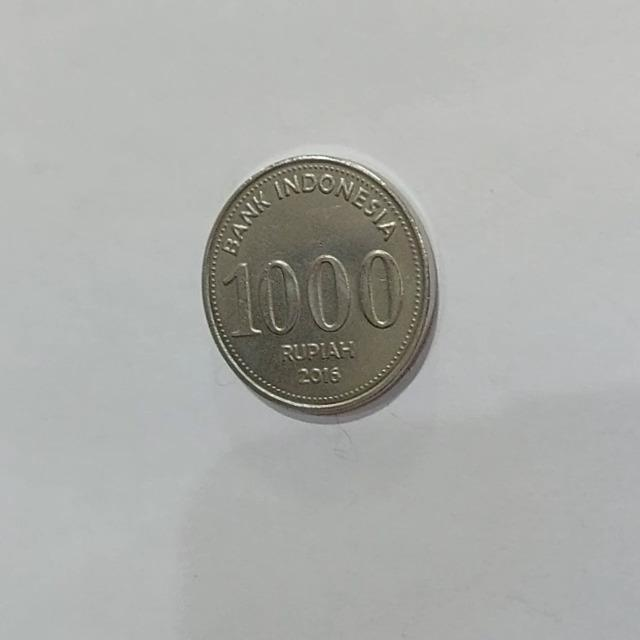Rp100: (199, 152, 437, 421)
